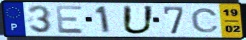1: (94, 5, 112, 35)
3: (26, 5, 55, 35)
7: (163, 6, 186, 35)
C: (190, 7, 221, 34)
E: (54, 4, 86, 35)
U: (121, 5, 156, 36)
